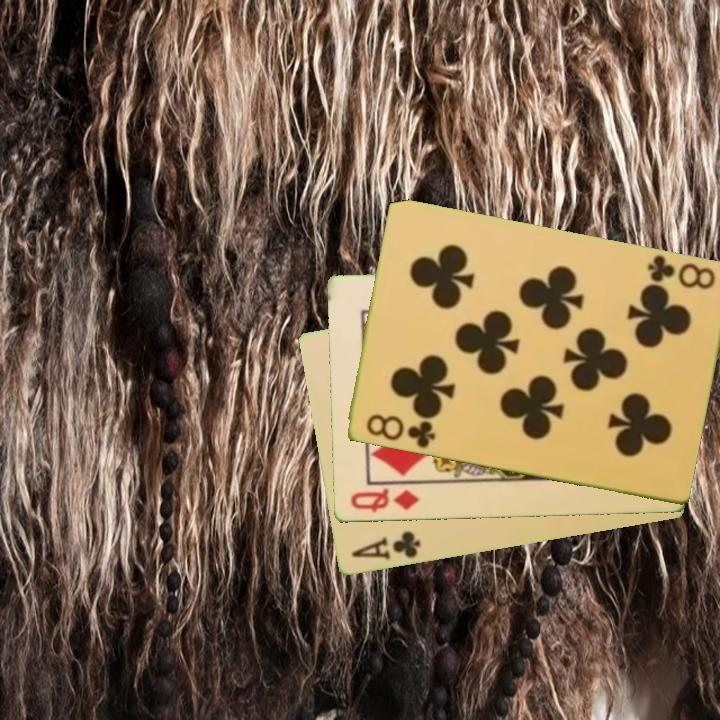8c: (362, 411, 438, 452), (643, 252, 718, 293)
Ac: (348, 528, 424, 564)
Qd: (347, 485, 422, 515)
